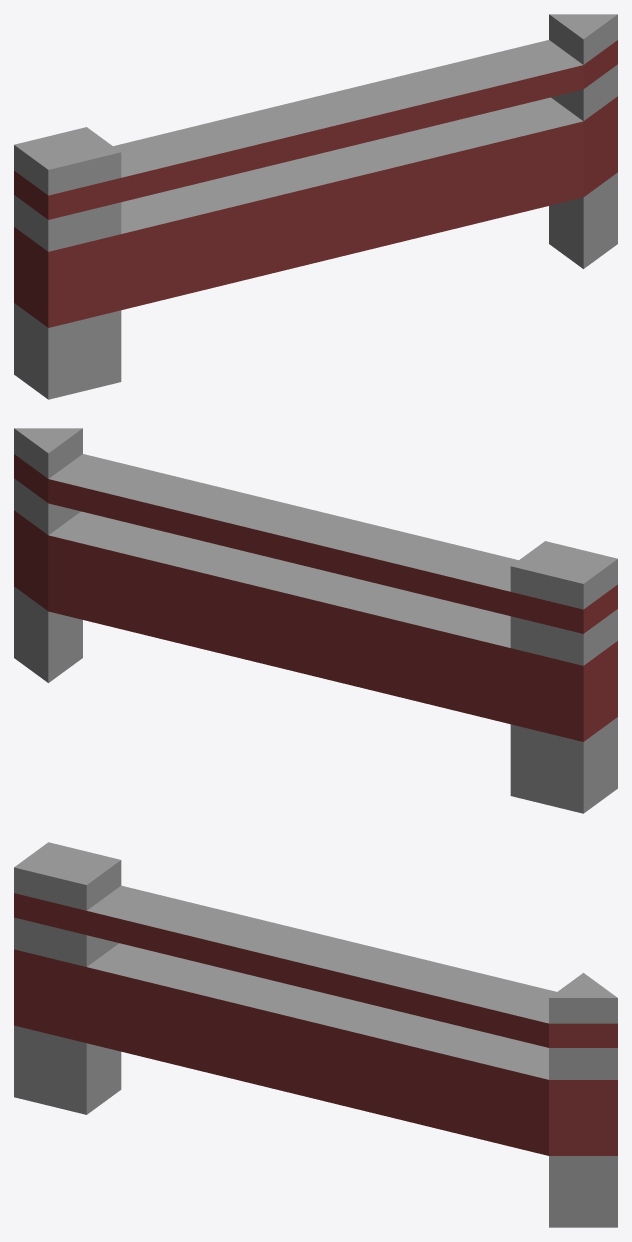
Rendered from APRailA.fbx.
The picture shows the model from 3 angles, top to bottom: view 1: azimuth 30°, elevation 25°; view 2: azimuth 150°, elevation 25°; view 3: azimuth 330°, elevation 25°; orthographic projection.
Visible parts, largest first — view 1: APRailA; view 2: APRailA; view 3: APRailA.
Part boxes in pixels (box(x1,y1,x2,y2)): APRailA: box(14, 14, 617, 399); APRailA: box(14, 428, 617, 813); APRailA: box(14, 842, 617, 1227).
Size of the model in its own units: 274 by 103 by 27.91.
Materials: 1 (1 with a texture image).
